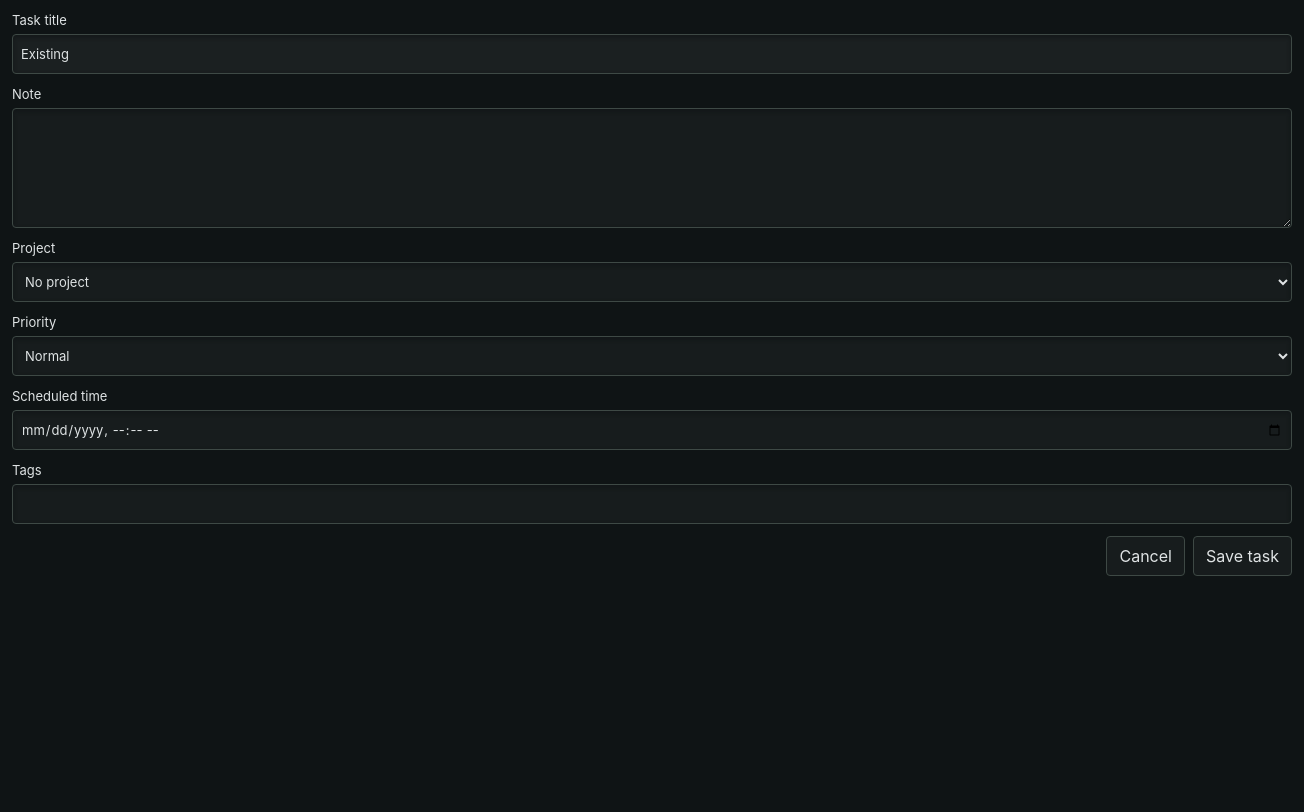
Test case: prevents duplicate submits and retains input after save errors
Replace the text in the field labelled "Task title" with "Retained title" at (652, 54), box [12, 34, 1292, 74]
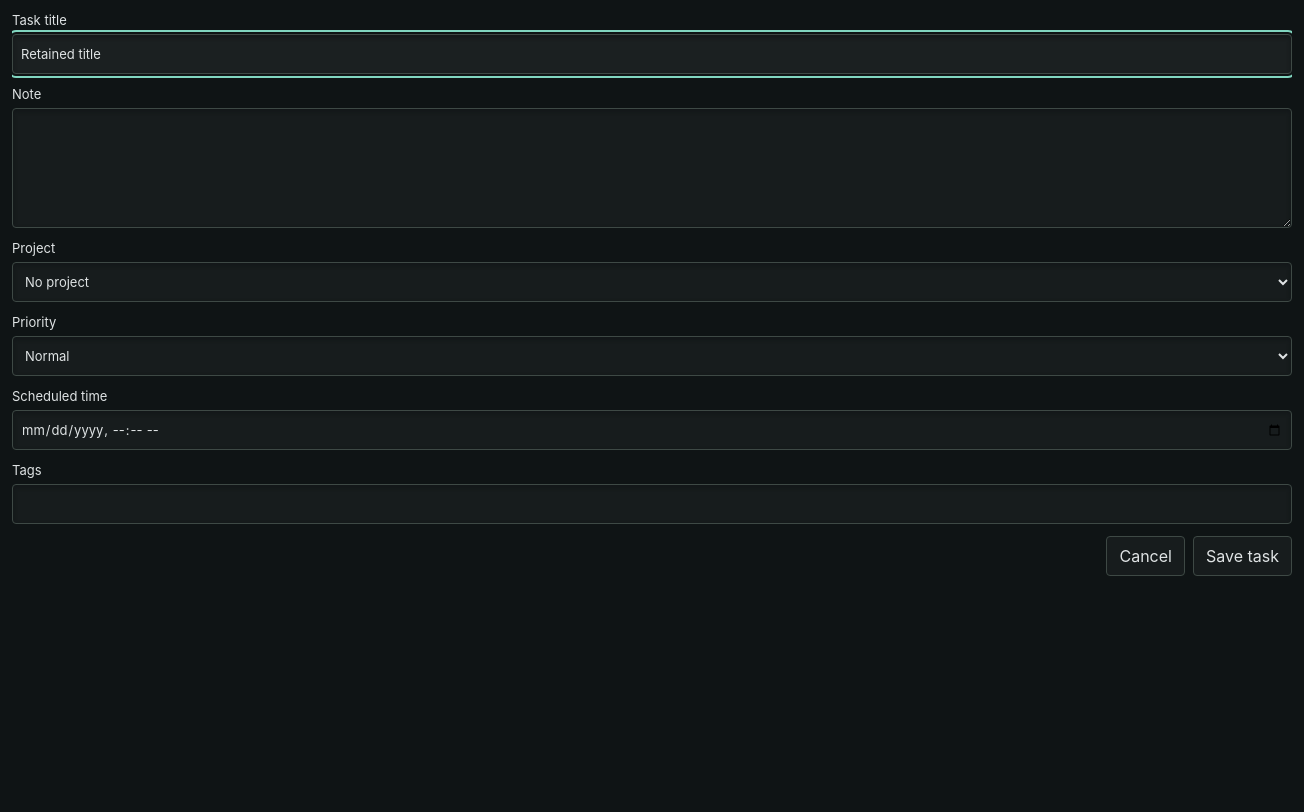
Click the button "Save task".
click(1242, 556)  # box [1193, 536, 1292, 576]
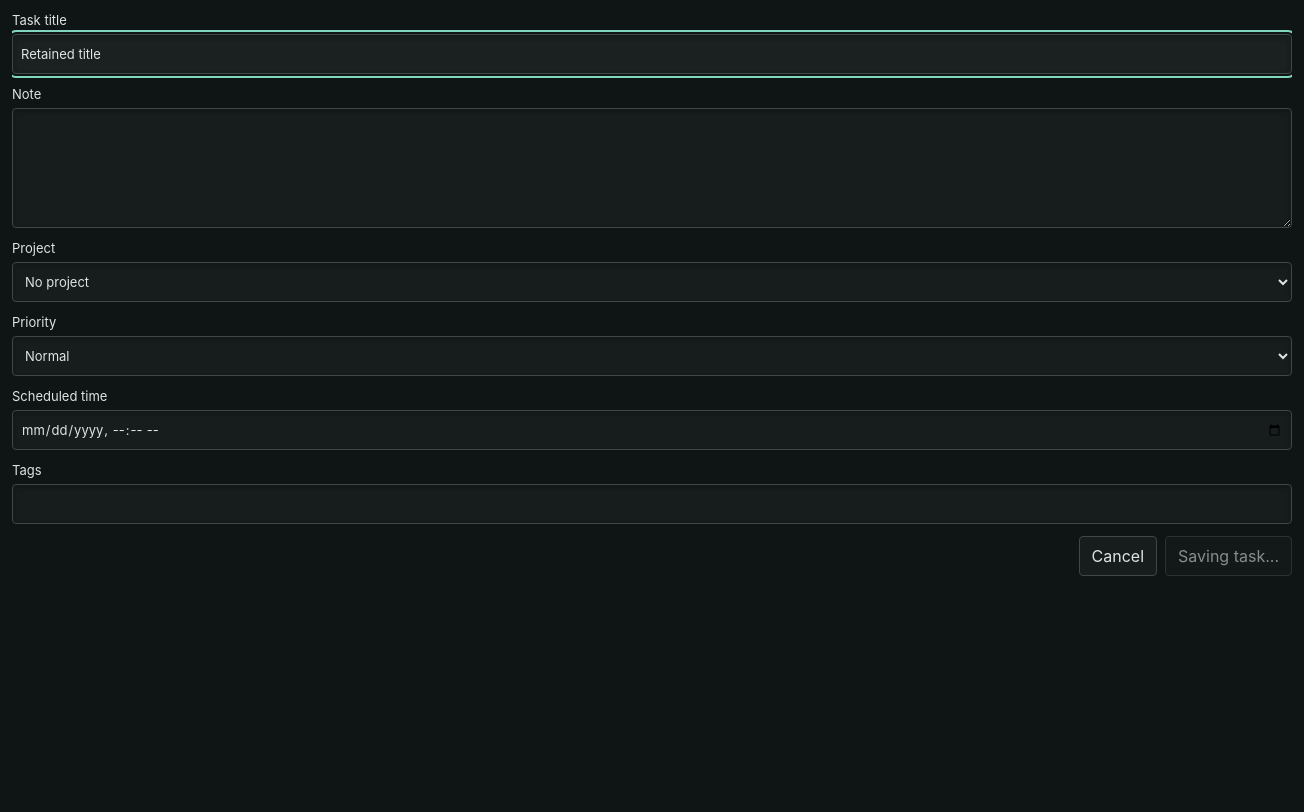
Click the button with aria-label "Save task".
click(1228, 556)  # box [1165, 536, 1292, 576]
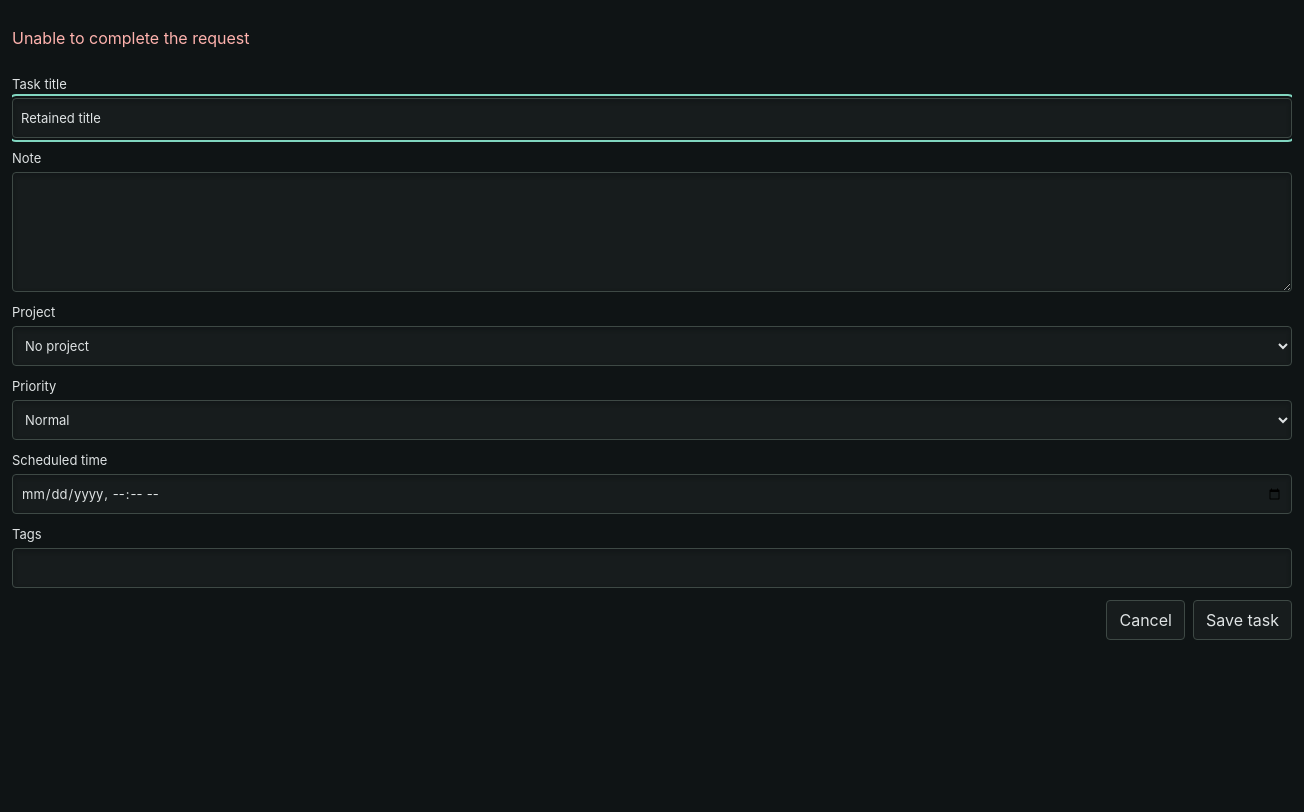
Check: the message "Unable to complete the request" is shown, box [12, 28, 250, 48]
